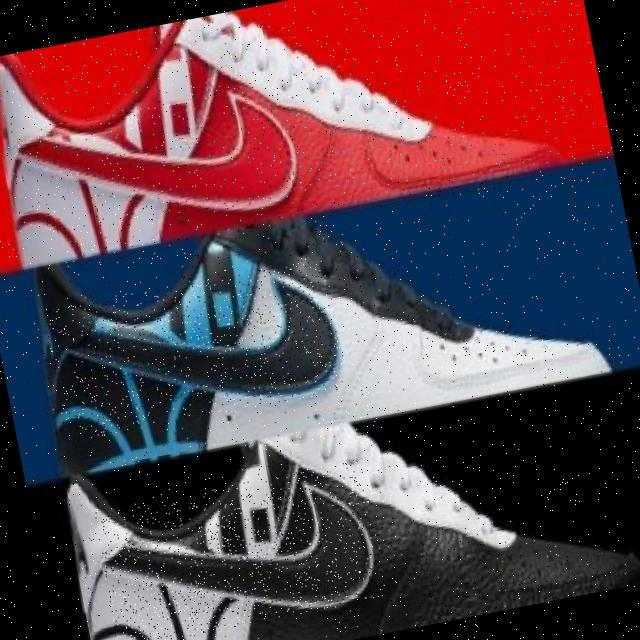Nike: (44, 255, 350, 444), (1, 66, 312, 248), (92, 460, 388, 640)
